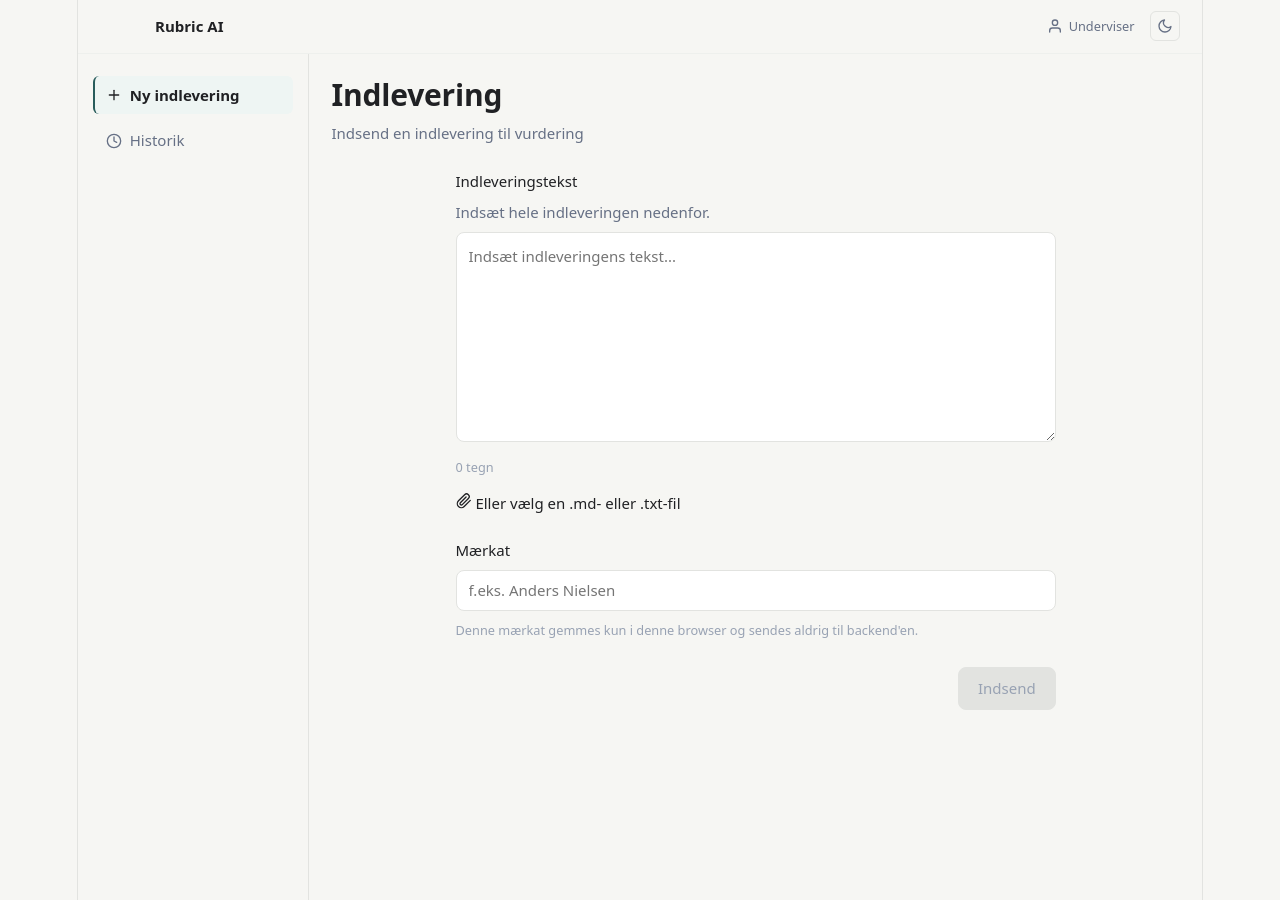
Test case: App shell › renders a sidebar and navigates between Upload and History
The image size is (1280, 900).
Expected: the link "Ny indlevering" is shown, [93, 76, 293, 114]
Expected: the text "Rubric AI" is shown, [155, 16, 223, 36]
Click the link "Historik" at (145, 140), box [106, 130, 185, 150]
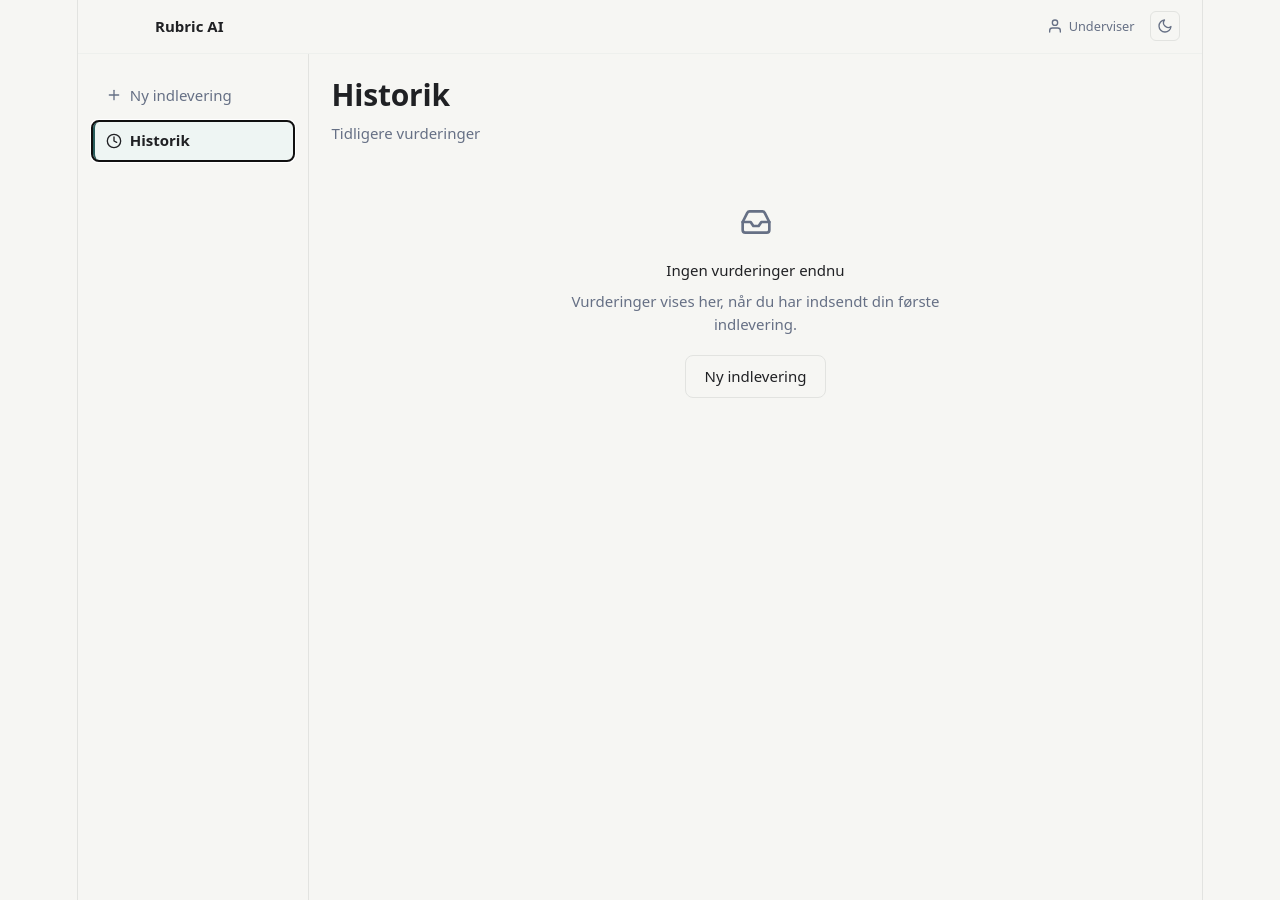
Result: the heading "Historik" is shown at [332, 74, 450, 115]
Click the 1st link "Ny indlevering" at (169, 94), box [106, 84, 232, 104]
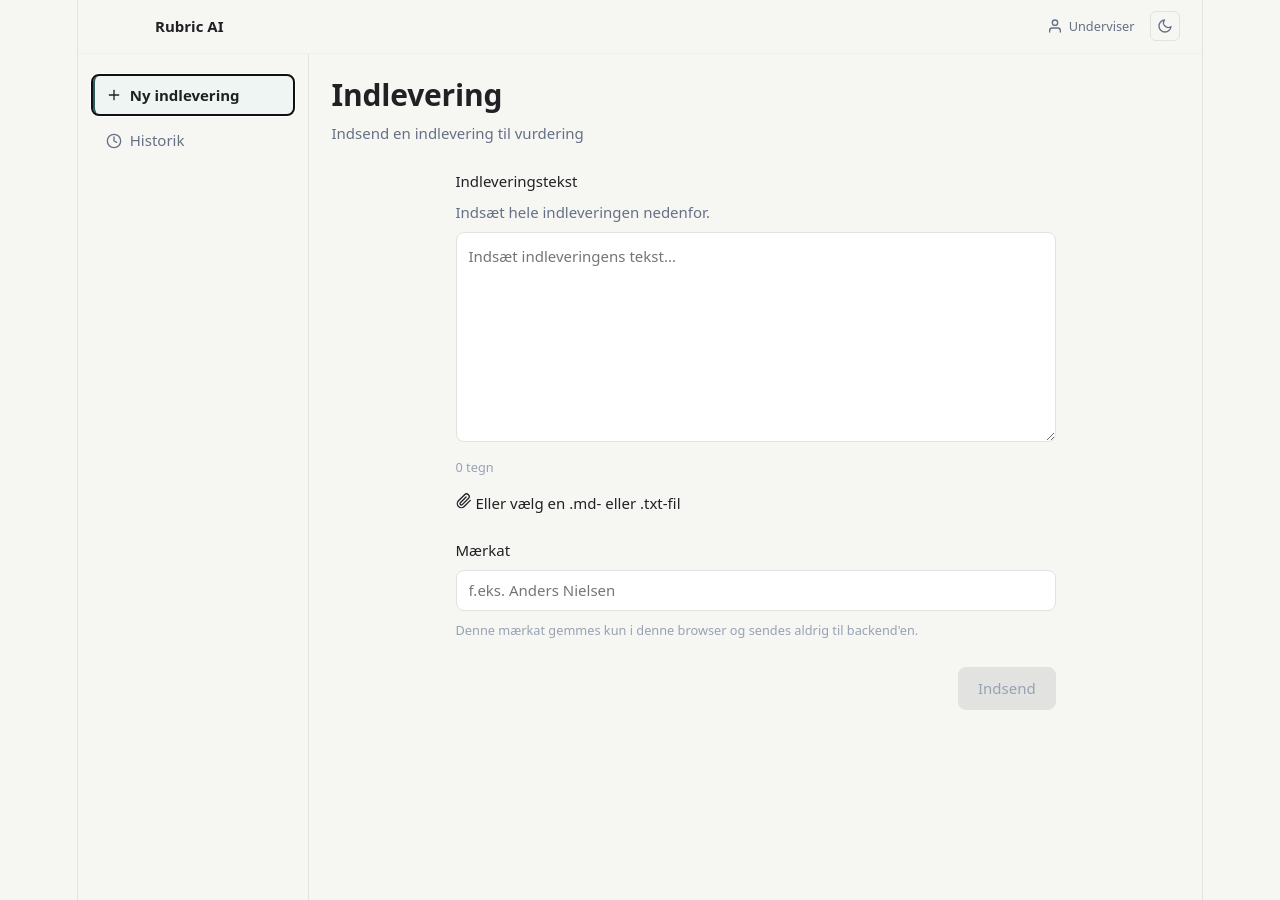
Result: the heading "Indlevering" is shown at [332, 74, 502, 115]
